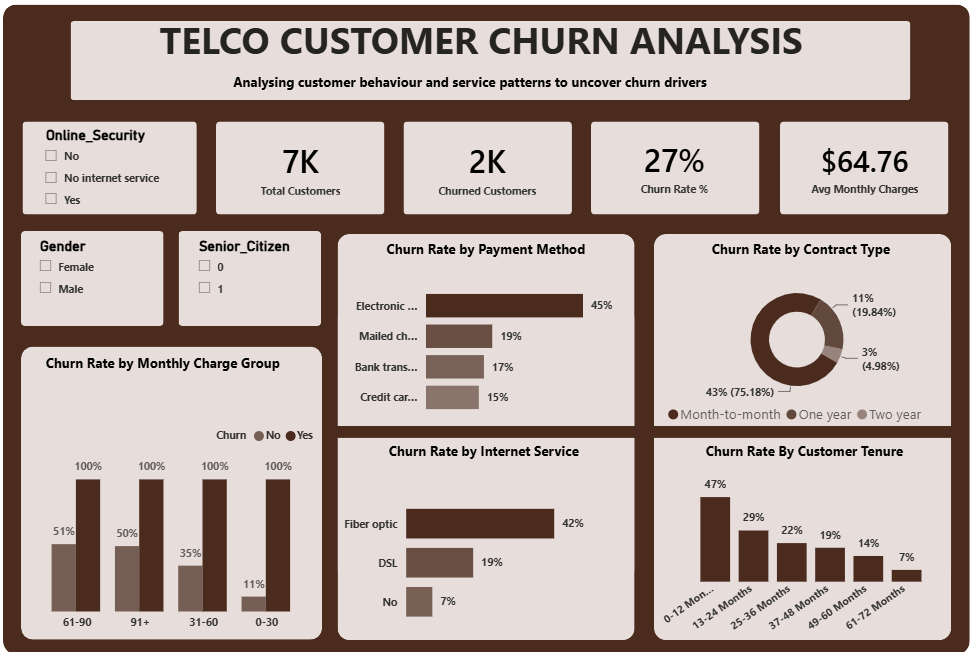

This screenshot's page, from the dashboard's own definition file:
{"tool":"powerbi","page":{"name":"Telco Customer Churn Dashbord","canvas":[1280,720],"ordinal":0},"visuals":[{"type":"shape","box":[142,32,976,656],"z":0},{"type":"shape","box":[210,48,848,80],"z":1000},{"type":"textbox","box":[265,36,720,64],"z":2000},{"type":"shape","box":[357.5,150,170,94],"z":3000},{"type":"shape","box":[547,150,170,94],"z":4000},{"type":"shape","box":[736.5,150,170,94],"z":5000},{"type":"shape","box":[926,150,170,94],"z":6000},{"type":"shape","box":[162,150,176,94],"z":7000},{"type":"shape","box":[480,263,300,410],"z":8000},{"type":"shape","box":[800,263,300,410],"z":9000},{"type":"shape","box":[160,377,304,296],"z":10000},{"type":"shape","box":[160,260,144,96],"z":11000},{"type":"shape","box":[320,260,144,96],"z":12000},{"type":"shape","box":[474,352,630,224],"z":13000},{"type":"cardVisual","fields":{"Data":["Telco_Customer_Churn_Dataset.Total Customers"]},"box":[373,153,140,88],"z":14000},{"type":"cardVisual","fields":{"Data":["Telco_Customer_Churn_Dataset.Churned Customers"]},"box":[553,153,157,88],"z":15000},{"type":"cardVisual","fields":{"Data":["Telco_Customer_Churn_Dataset.Churn Rate %"]},"box":[745,152,150,88],"z":16000},{"type":"cardVisual","fields":{"Data":["Telco_Customer_Churn_Dataset.Avg Monthly Charges"]},"box":[928,153,168,88],"z":17000},{"type":"slicer","fields":{"Values":["Telco_Customer_Churn_Dataset.Gender"]},"box":[166,262,132,80],"z":18000},{"type":"slicer","fields":{"Values":["Telco_Customer_Churn_Dataset.Senior_Citizen"]},"box":[327,262,130,80],"z":19000},{"type":"slicer","fields":{"Values":["Telco_Customer_Churn_Dataset.Online_Security"]},"box":[173,150,150,93],"z":20000},{"type":"donutChart","fields":{"Category":["Telco_Customer_Churn_Dataset.Contract"],"Y":["Telco_Customer_Churn_Dataset.Churn Rate %"]},"box":[800,304,288,160],"z":21000},{"type":"clusteredColumnChart","fields":{"Y":["Telco_Customer_Churn_Dataset.Churn Rate %"],"Category":["Telco_Customer_Churn_Dataset.Tenure Group"]},"box":[802,492,288,182],"z":22000},{"type":"clusteredBarChart","fields":{"Category":["Telco_Customer_Churn_Dataset.Internet_Service"],"Y":["Telco_Customer_Churn_Dataset.Churn Rate %"]},"box":[480,512,288,160],"z":23000},{"type":"clusteredBarChart","fields":{"Category":["Telco_Customer_Churn_Dataset.Payment_Method"],"Y":["Telco_Customer_Churn_Dataset.Churn Rate %"]},"box":[480,299,304,160],"z":24000},{"type":"clusteredColumnChart","fields":{"Category":["Telco_Customer_Churn_Dataset.Monthly Charges Group"],"Y":["Telco_Customer_Churn_Dataset.Churn Rate %"],"Series":["Telco_Customer_Churn_Dataset.Churn"]},"box":[160,448,304,224],"z":25000},{"type":"textbox","box":[836,264,224,32],"z":26000},{"type":"textbox","box":[518,264,224,32],"z":27000},{"type":"textbox","box":[500,468,256,32],"z":28000},{"type":"textbox","box":[832,468,240,32],"z":29000},{"type":"textbox","box":[176,378,256,32],"z":30000},{"type":"textbox","box":[350,96,528,32],"z":31000},{"type":"actionButton","box":[16,34,112,64],"z":32000},{"type":"actionButton","box":[16,112,112,64],"z":33000},{"type":"actionButton","box":[16,192,112,64],"z":34000}]}

Visuals, with their boxes on the page's 1280x720 design canvas (x1, y1, x2, y2). These are canvas units, not pixel positions in the 970x652 screenshot, which may show the page scaled, cropped or inside an application window:
shape: select_region(142, 32, 1118, 688)
shape: select_region(210, 48, 1058, 128)
textbox: select_region(265, 36, 985, 100)
shape: select_region(358, 150, 528, 244)
shape: select_region(547, 150, 717, 244)
shape: select_region(736, 150, 906, 244)
shape: select_region(926, 150, 1096, 244)
shape: select_region(162, 150, 338, 244)
shape: select_region(480, 263, 780, 673)
shape: select_region(800, 263, 1100, 673)
shape: select_region(160, 377, 464, 673)
shape: select_region(160, 260, 304, 356)
shape: select_region(320, 260, 464, 356)
shape: select_region(474, 352, 1104, 576)
cardVisual - Telco_Customer_Churn_Dataset.Total Customers: select_region(373, 153, 513, 241)
cardVisual - Telco_Customer_Churn_Dataset.Churned Customers: select_region(553, 153, 710, 241)
cardVisual - Telco_Customer_Churn_Dataset.Churn Rate %: select_region(745, 152, 895, 240)
cardVisual - Telco_Customer_Churn_Dataset.Avg Monthly Charges: select_region(928, 153, 1096, 241)
slicer - Telco_Customer_Churn_Dataset.Gender: select_region(166, 262, 298, 342)
slicer - Telco_Customer_Churn_Dataset.Senior_Citizen: select_region(327, 262, 457, 342)
slicer - Telco_Customer_Churn_Dataset.Online_Security: select_region(173, 150, 323, 243)
donutChart - Telco_Customer_Churn_Dataset.Contract x Telco_Customer_Churn_Dataset.Churn Rate %: select_region(800, 304, 1088, 464)
clusteredColumnChart - Telco_Customer_Churn_Dataset.Churn Rate % x Telco_Customer_Churn_Dataset.Tenure Group: select_region(802, 492, 1090, 674)
clusteredBarChart - Telco_Customer_Churn_Dataset.Internet_Service x Telco_Customer_Churn_Dataset.Churn Rate %: select_region(480, 512, 768, 672)
clusteredBarChart - Telco_Customer_Churn_Dataset.Payment_Method x Telco_Customer_Churn_Dataset.Churn Rate %: select_region(480, 299, 784, 459)
clusteredColumnChart - Telco_Customer_Churn_Dataset.Monthly Charges Group x Telco_Customer_Churn_Dataset.Churn Rate %: select_region(160, 448, 464, 672)
textbox: select_region(836, 264, 1060, 296)
textbox: select_region(518, 264, 742, 296)
textbox: select_region(500, 468, 756, 500)
textbox: select_region(832, 468, 1072, 500)
textbox: select_region(176, 378, 432, 410)
textbox: select_region(350, 96, 878, 128)
actionButton: select_region(16, 34, 128, 98)
actionButton: select_region(16, 112, 128, 176)
actionButton: select_region(16, 192, 128, 256)
